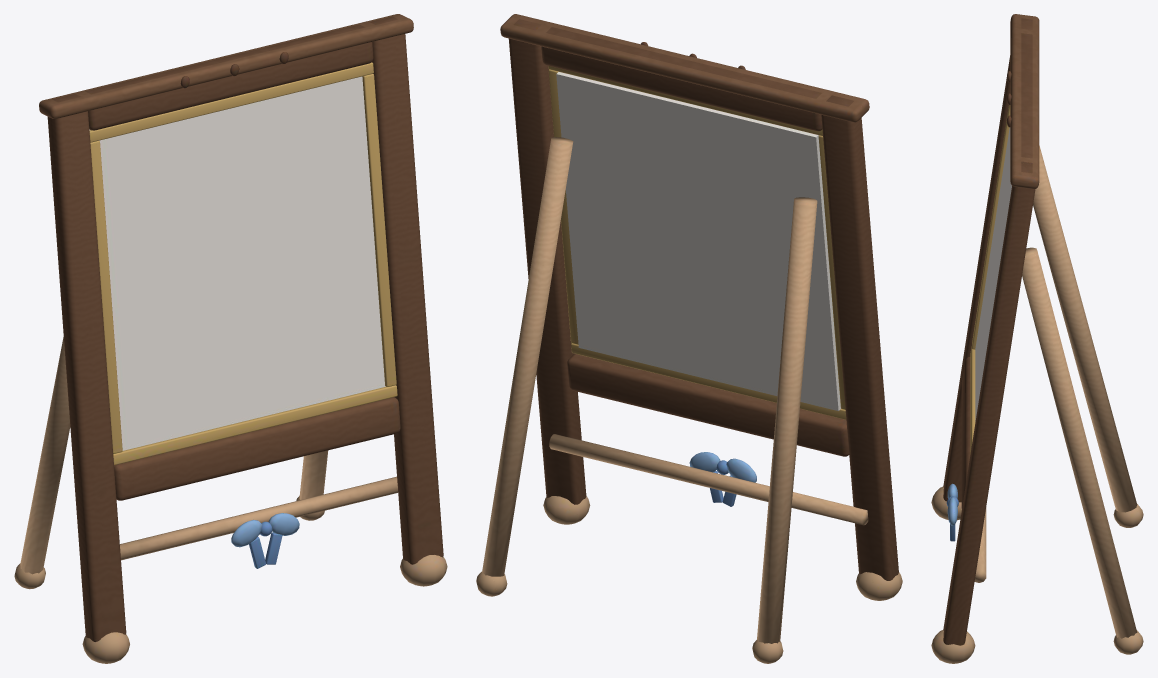
The model's file is trumua-chapter-frame.glb.
3 renders of one model, left to right at view 1: azimuth 30°, elevation 25°; view 2: azimuth 150°, elevation 25°; view 3: azimuth 270°, elevation 25°, orthographic. The views are drawn at different scales.
Visible parts, largest first — view 1: trumua-chapter-frame; view 2: trumua-chapter-frame; view 3: trumua-chapter-frame.
Part boxes in pixels (x1=…): trumua-chapter-frame: x1=14, y1=14, x2=447, y2=663; trumua-chapter-frame: x1=476, y1=14, x2=902, y2=663; trumua-chapter-frame: x1=931, y1=14, x2=1143, y2=663.
Bounding box in the file's own units: 0.8843 × 1.25 × 0.4843.
Materials: 1 (1 with a texture image).
